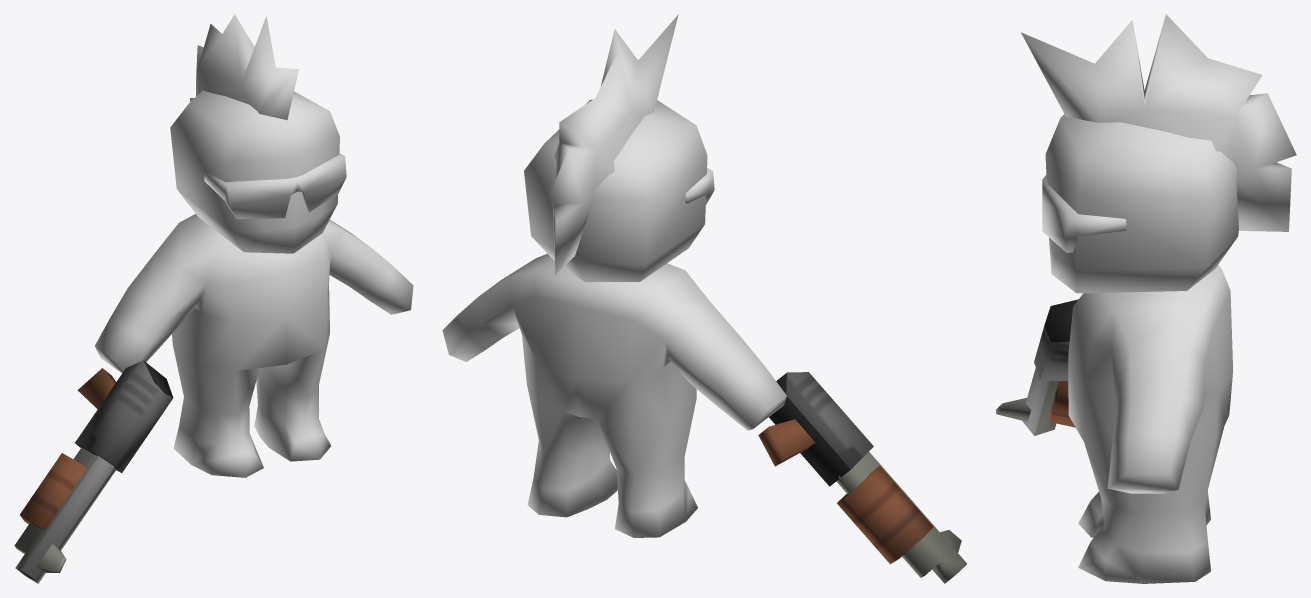
Rendered from ShotGunnerSurvivorPVP.fbx.
3 renders of one model, left to right at view 1: azimuth 30°, elevation 25°; view 2: azimuth 150°, elevation 25°; view 3: azimuth 270°, elevation 25°, orthographic. The views are drawn at different scales.
Parts seen in each view (by area): view 1: ShotGunnerModel, w_shotgun; view 2: ShotGunnerModel, w_shotgun; view 3: ShotGunnerModel, w_shotgun.
Boxes of the visible parts, x1,y1,x2,y2 form: ShotGunnerModel: [95, 14, 413, 477]; w_shotgun: [14, 360, 173, 583]; ShotGunnerModel: [442, 14, 786, 537]; w_shotgun: [758, 372, 966, 583]; ShotGunnerModel: [1021, 14, 1296, 583]; w_shotgun: [996, 299, 1078, 435].
Bounding box in the file's own units: 1.29 × 1.35 × 0.6406.
